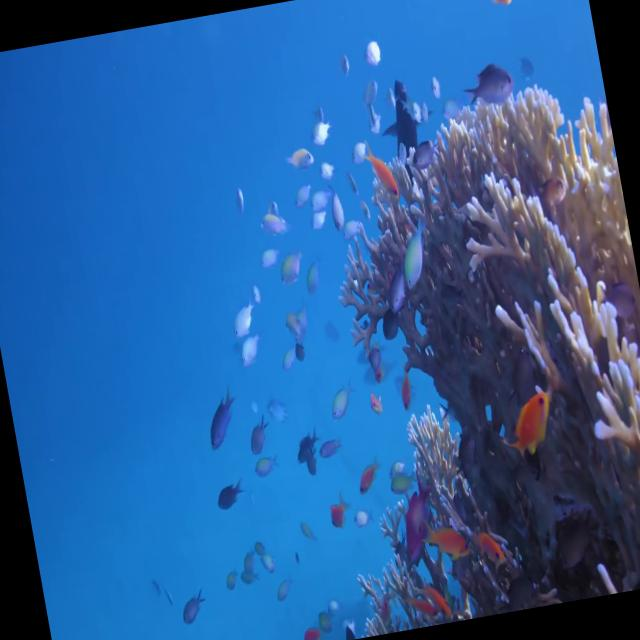fish: (497, 387, 561, 467), (394, 213, 438, 294), (202, 386, 244, 452), (420, 514, 470, 567), (464, 59, 516, 108), (228, 299, 260, 339), (469, 0, 513, 11)
